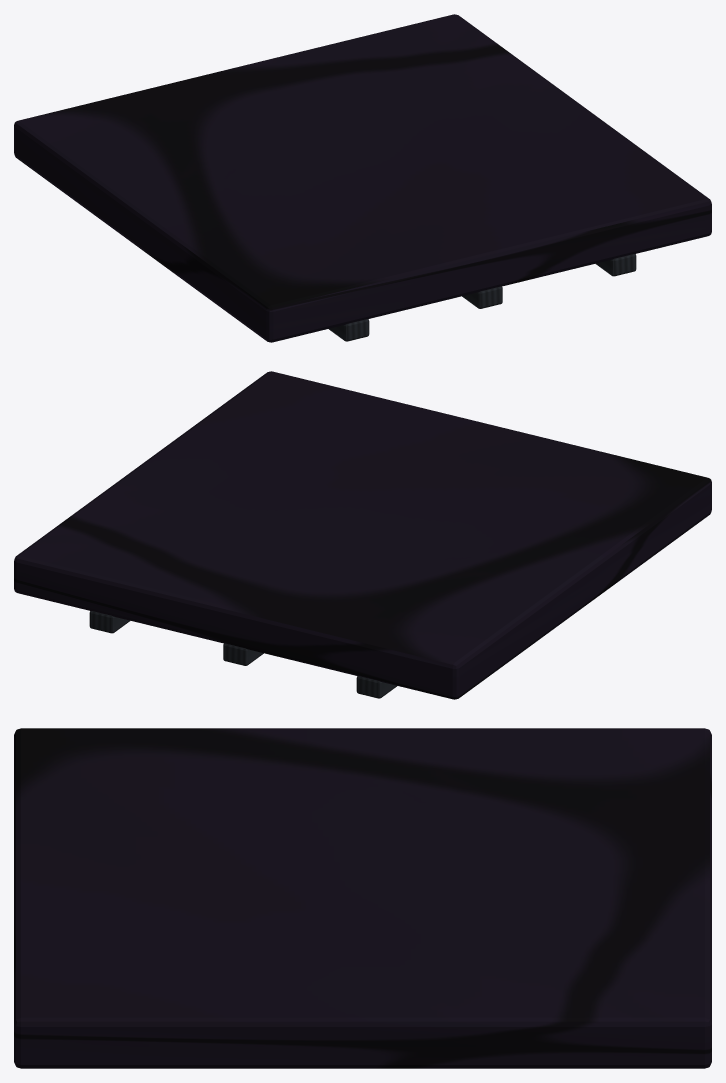
File: SM_FC_Ceiling_400.fbx
3 renders of one model, top to bottom at view 1: azimuth 30°, elevation 25°; view 2: azimuth 150°, elevation 25°; view 3: azimuth 270°, elevation 25°, orthographic. The views are drawn at different scales.
Visible parts, largest first — view 1: SM_FC_Ceiling_400; view 2: SM_FC_Ceiling_400; view 3: SM_FC_Ceiling_400.
Part boxes in pixels (x1,y1,x2,y2): SM_FC_Ceiling_400: (14, 14, 711, 342); SM_FC_Ceiling_400: (14, 371, 711, 699); SM_FC_Ceiling_400: (14, 728, 711, 1068).
Size of what is drawn, in the model's own units: 4 by 0.46 by 4.
